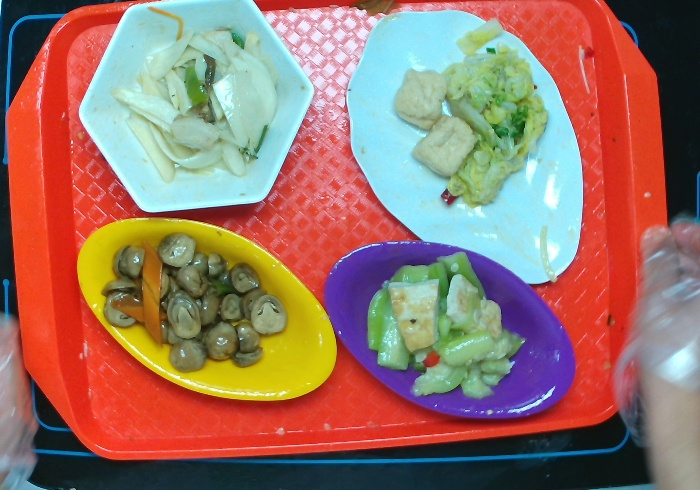RJxy-Bai_Ye_Pan: (345, 7, 586, 287)
RJxy-Fen_Hong_Tuo_Yuan: (322, 238, 577, 422)
RJxy-Huang_Se_Tuo_Yuan: (76, 215, 339, 404)
RJxy-Liu_Jiao_Wan: (76, 1, 316, 215)
